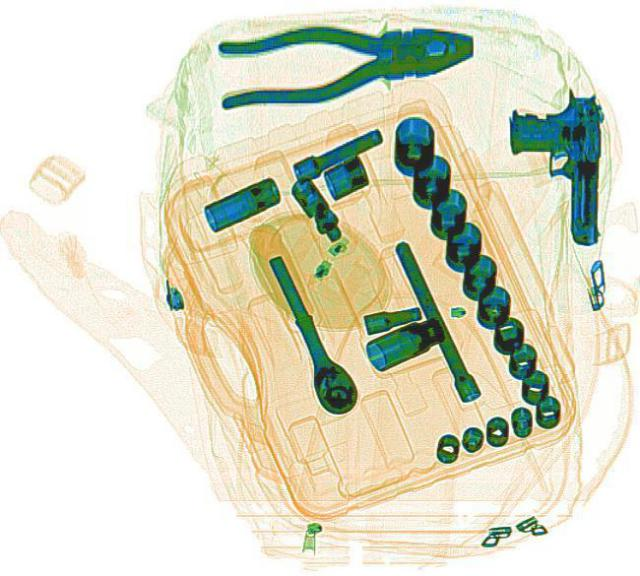Gun: (508, 86, 602, 244)
Pliers: (210, 12, 478, 110)
